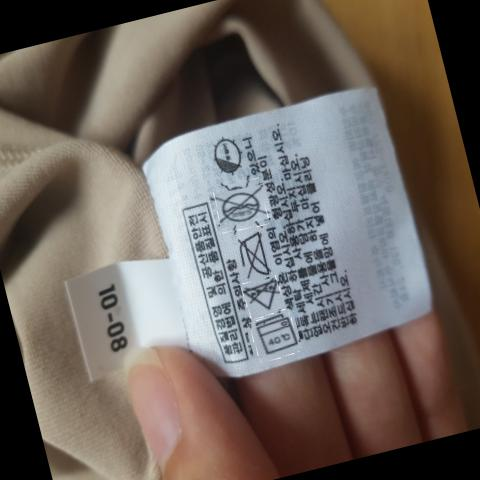40C: (253, 315, 298, 354)
DN_dry_clean: (218, 185, 269, 226)
DN_iron: (235, 229, 273, 281)
line_dry_in_shade: (209, 132, 245, 178)
non_chlorine_bleach: (247, 275, 282, 312)
